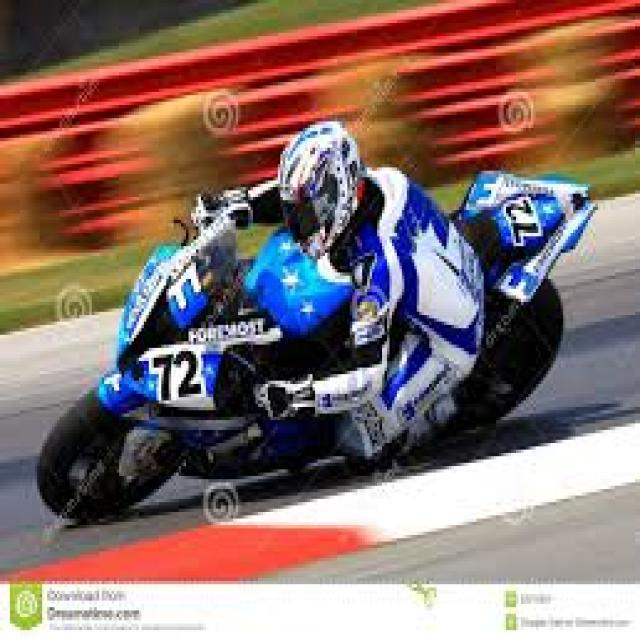Bike: (35, 169, 599, 522)
